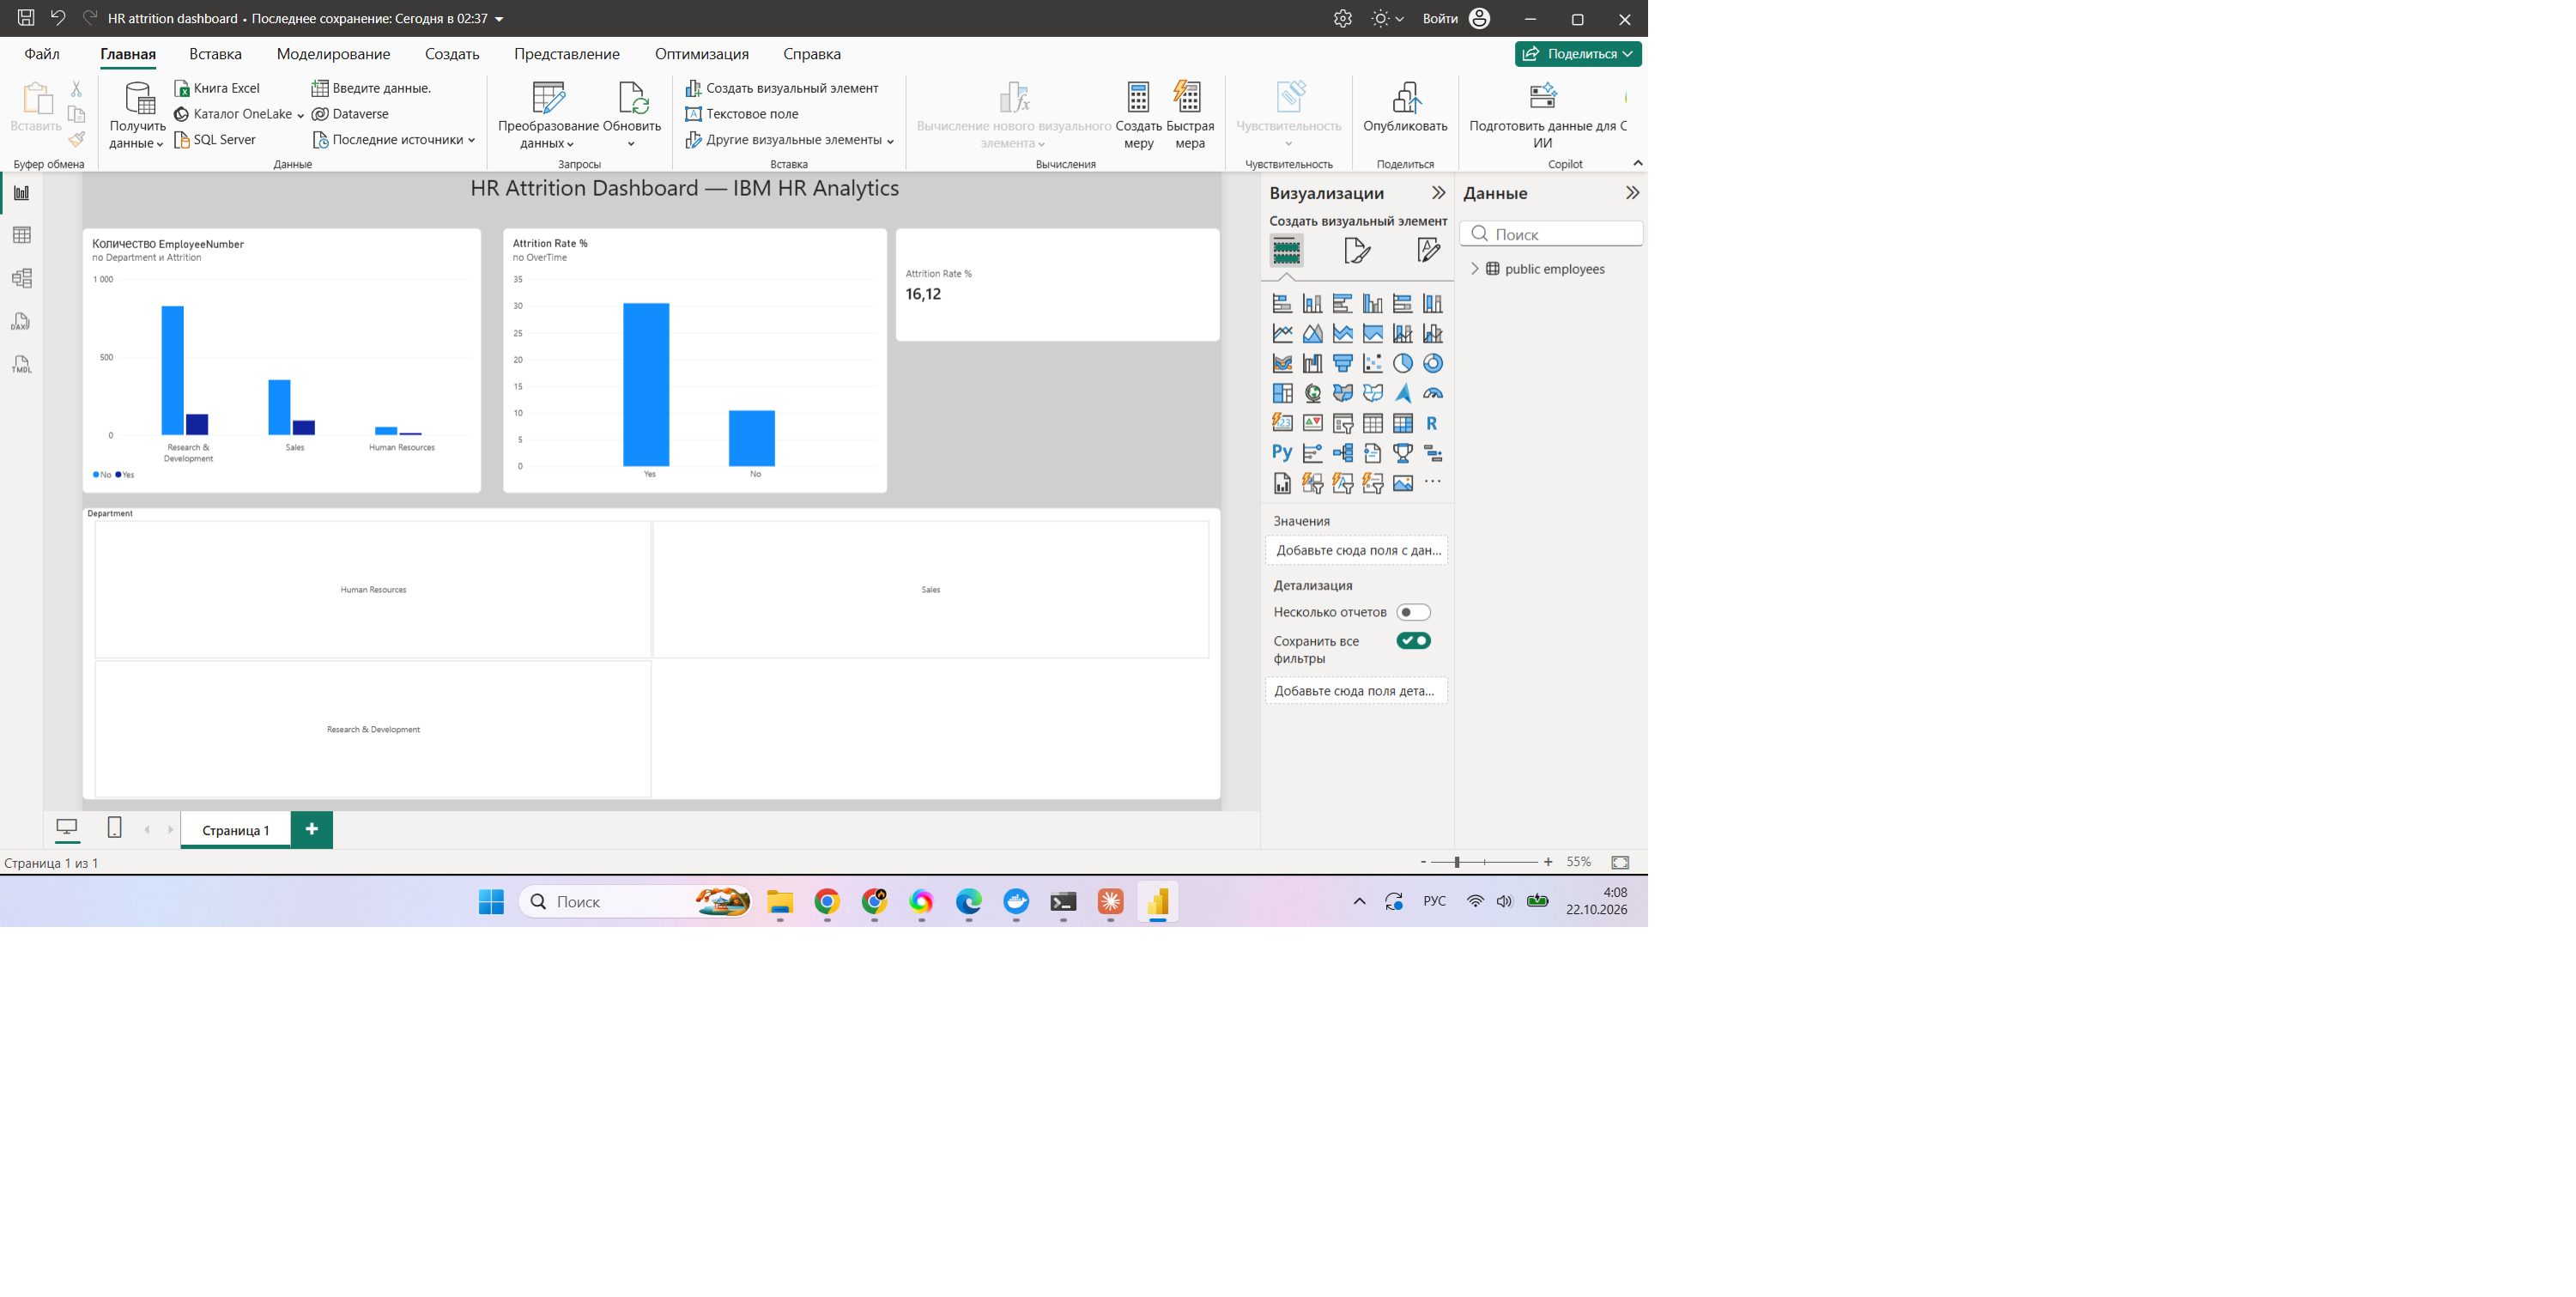

The page's visual inventory and layout, read from the dashboard file:
{"tool":"powerbi","page":{"name":"Страница 1","canvas":[1920,1080],"ordinal":0},"visuals":[{"type":"clusteredColumnChart","fields":{"Category":["public employees.Department"],"Series":["public employees.Attrition"],"Y":["CountNonNull(public employees.EmployeeNumber)"]},"box":[0,95.9,673.2,447],"z":0},{"type":"cardVisual","fields":{"Data":["public employees.Attrition Rate %"]},"box":[1371.7,95.9,547.5,191.4],"z":1},{"type":"clusteredColumnChart","fields":{"Category":["public employees.OverTime"],"Y":["public employees.Attrition Rate %"]},"box":[709.4,95.9,647.9,447],"z":2},{"type":"slicer","fields":{"Values":["public employees.Department"]},"box":[0,568.2,1920.1,492.2],"z":3},{"type":"textbox","box":[0,0,1920.1,50.7],"z":5}]}

Visuals, with their boxes on the page's 1920x1080 design canvas (x1, y1, x2, y2). These are canvas units, not pixel positions in the 2576x1297 screenshot, which may show the page scaled, cropped or inside an application window:
clusteredColumnChart - public employees.Department x public employees.Attrition: x1=0, y1=96, x2=673, y2=543
cardVisual - public employees.Attrition Rate %: x1=1372, y1=96, x2=1919, y2=287
clusteredColumnChart - public employees.OverTime x public employees.Attrition Rate %: x1=709, y1=96, x2=1357, y2=543
slicer - public employees.Department: x1=0, y1=568, x2=1920, y2=1060
textbox: x1=0, y1=0, x2=1920, y2=51
